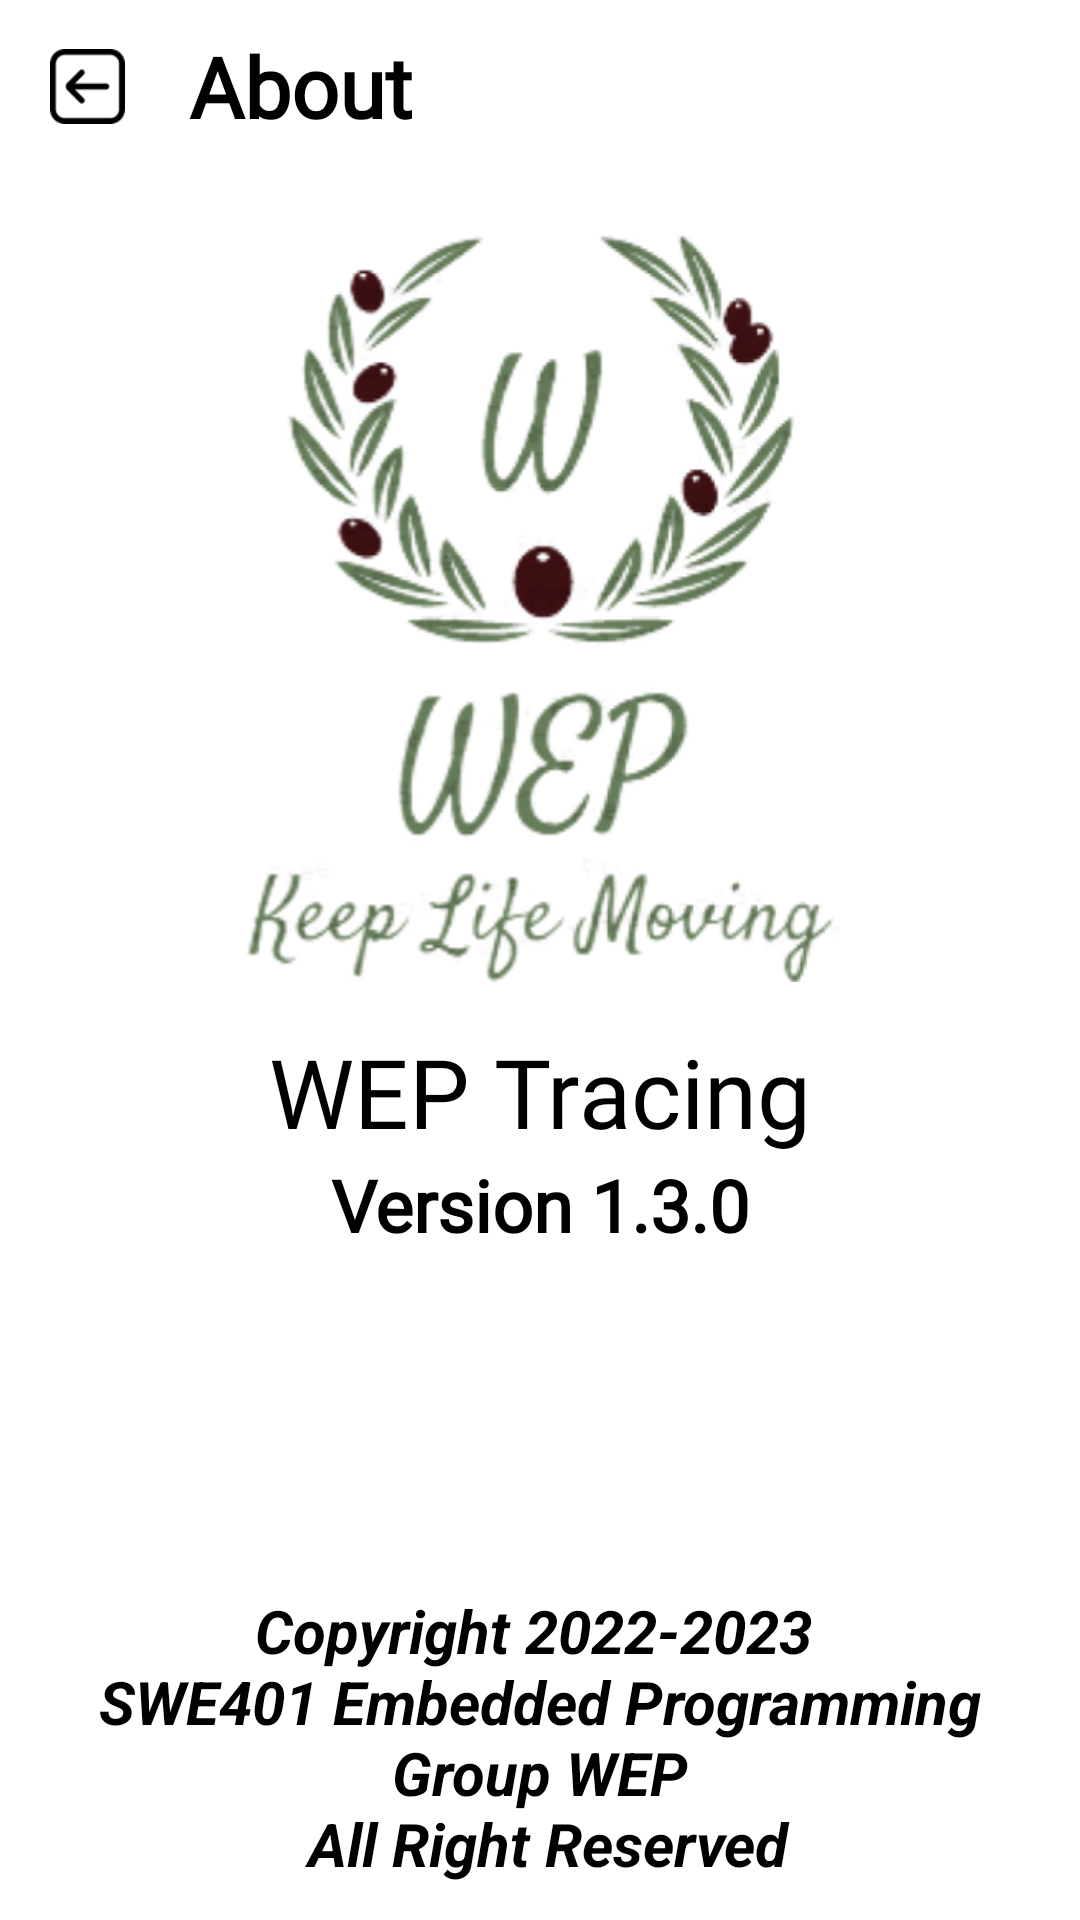

Screen size 1080 x 1920. Icon name, then its box in pixels as (x1, y1, x2, y2):
back: (50, 49, 125, 124)
